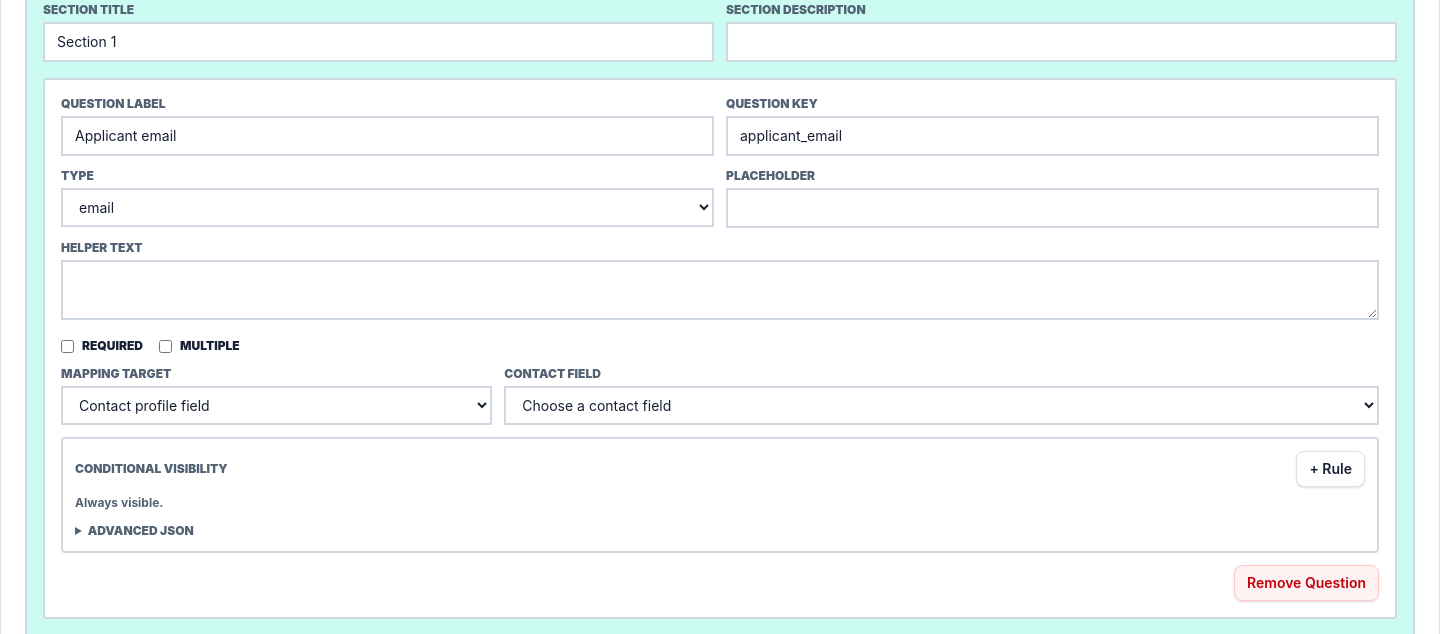
CaseFormsBuilderCard › clears mapping diagnostics through target pickers
(page scrolled)
Select "Email" in the dropdown named "Contact field for Applicant email" at (942, 406), box [504,386,1379,425]
(page scrolled)
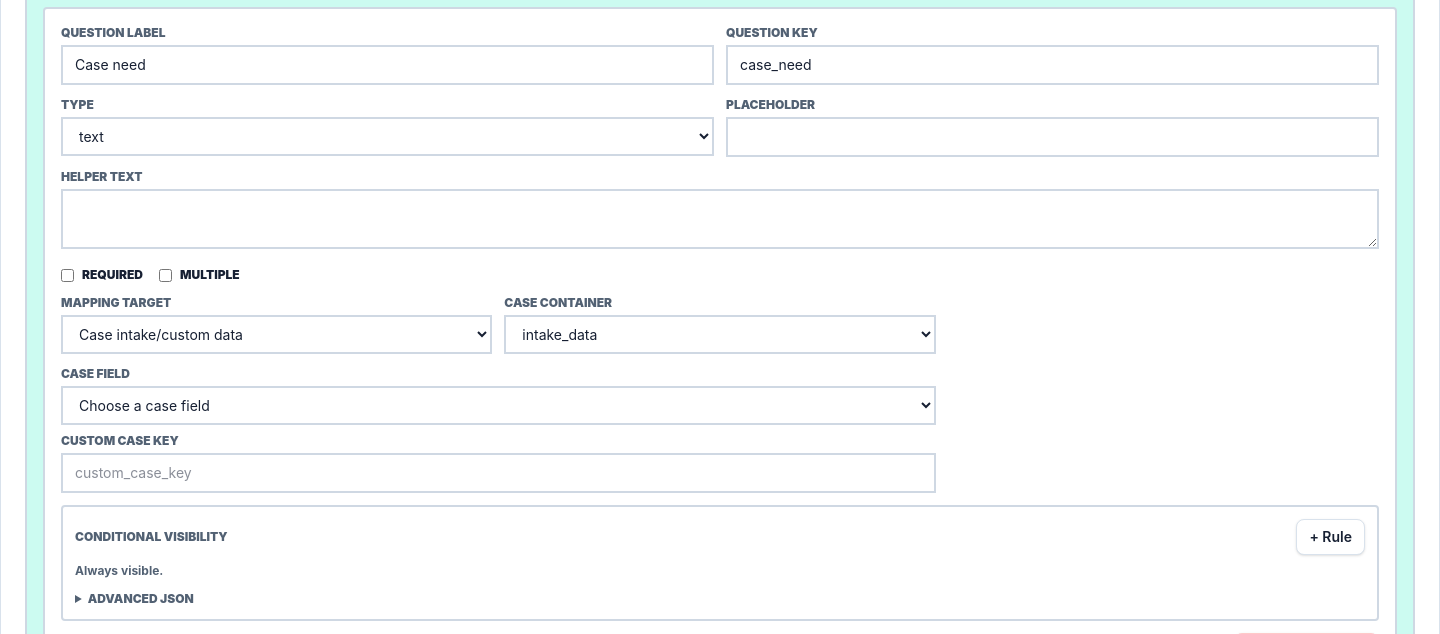
Select "Primary need" in the dropdown named "Case field for Case need" at (498, 406), box [61,386,936,425]
(page scrolled)
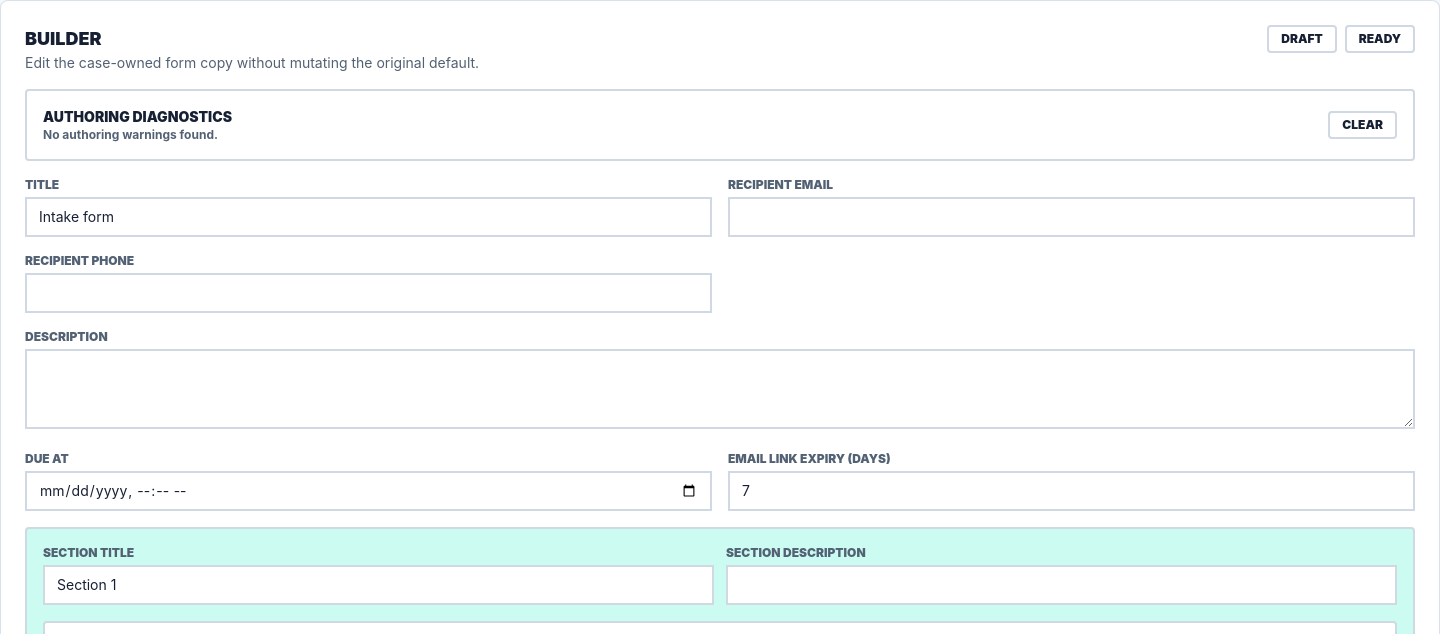
Expected: the text "No authoring warnings found." is shown, [43,127,232,143]
